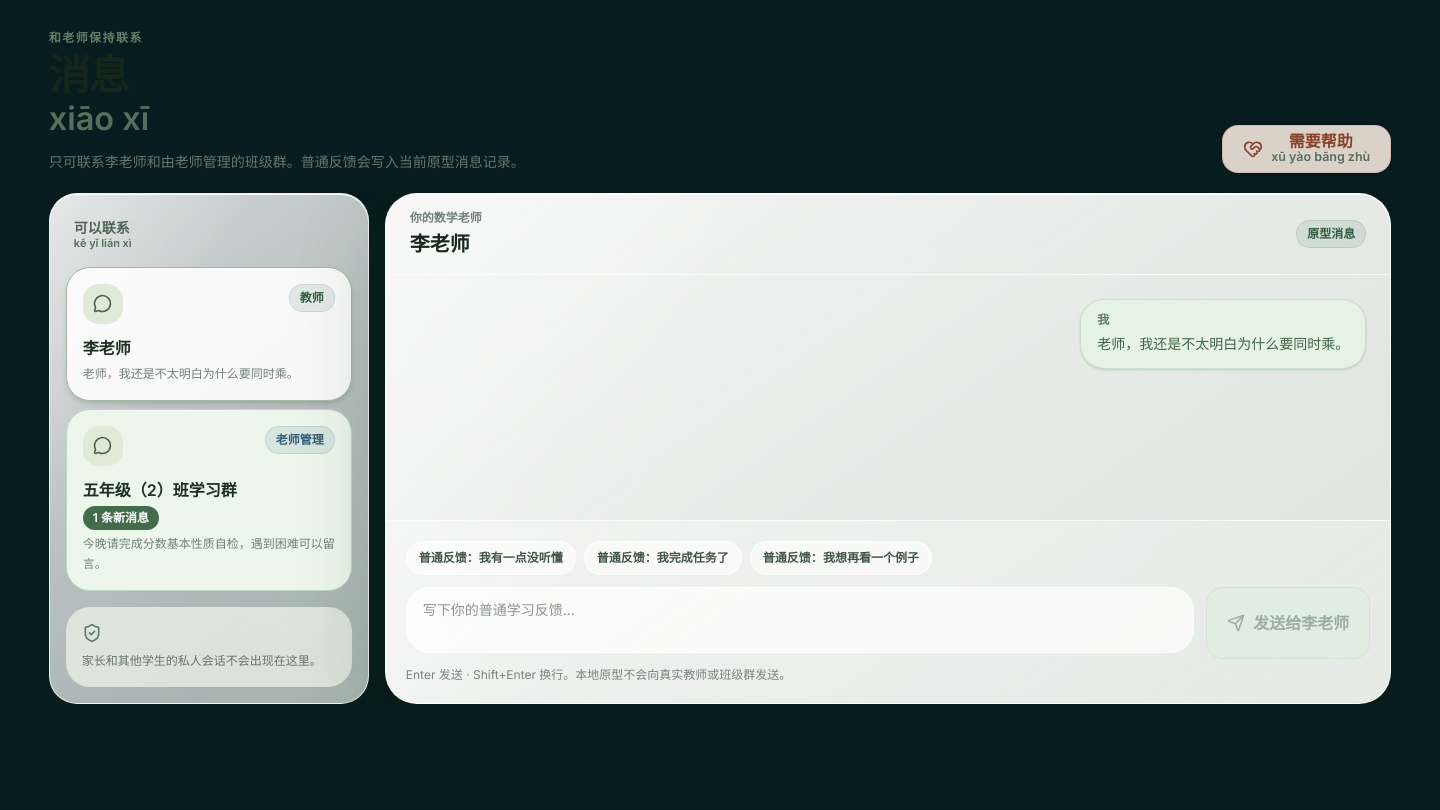
Test: StudentMessagesPage › keeps the separate help entry out of ordinary messages and shows safety guidance
Click the button "需要帮助 xū yào bāng zhù". click: (1307, 149)
box: [1222,125,1391,173]
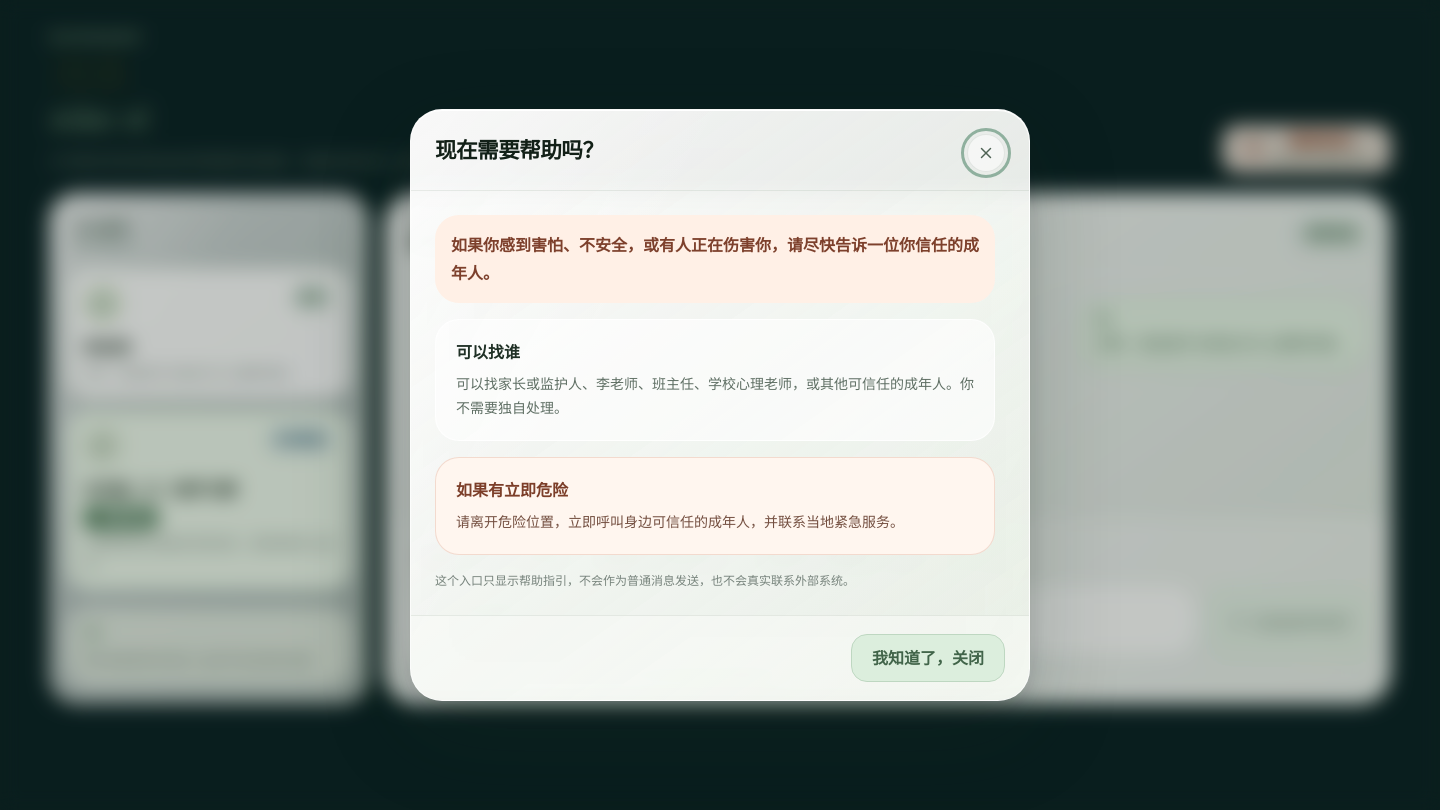
Check: the heading "可以找谁" is shown, box [456,342,520,362]
Check: the text "可以找家长或监护人、李老师、班主任、学校心理老师，或其他可信任的成年人。你不需要独自处理。" is shown, box [456,372,974,420]
Check: the heading "如果有立即危险" is shown, box [456,480,568,500]
Click the button "我知道了，关闭". click: (928, 658)
box: [851,634,1005,682]
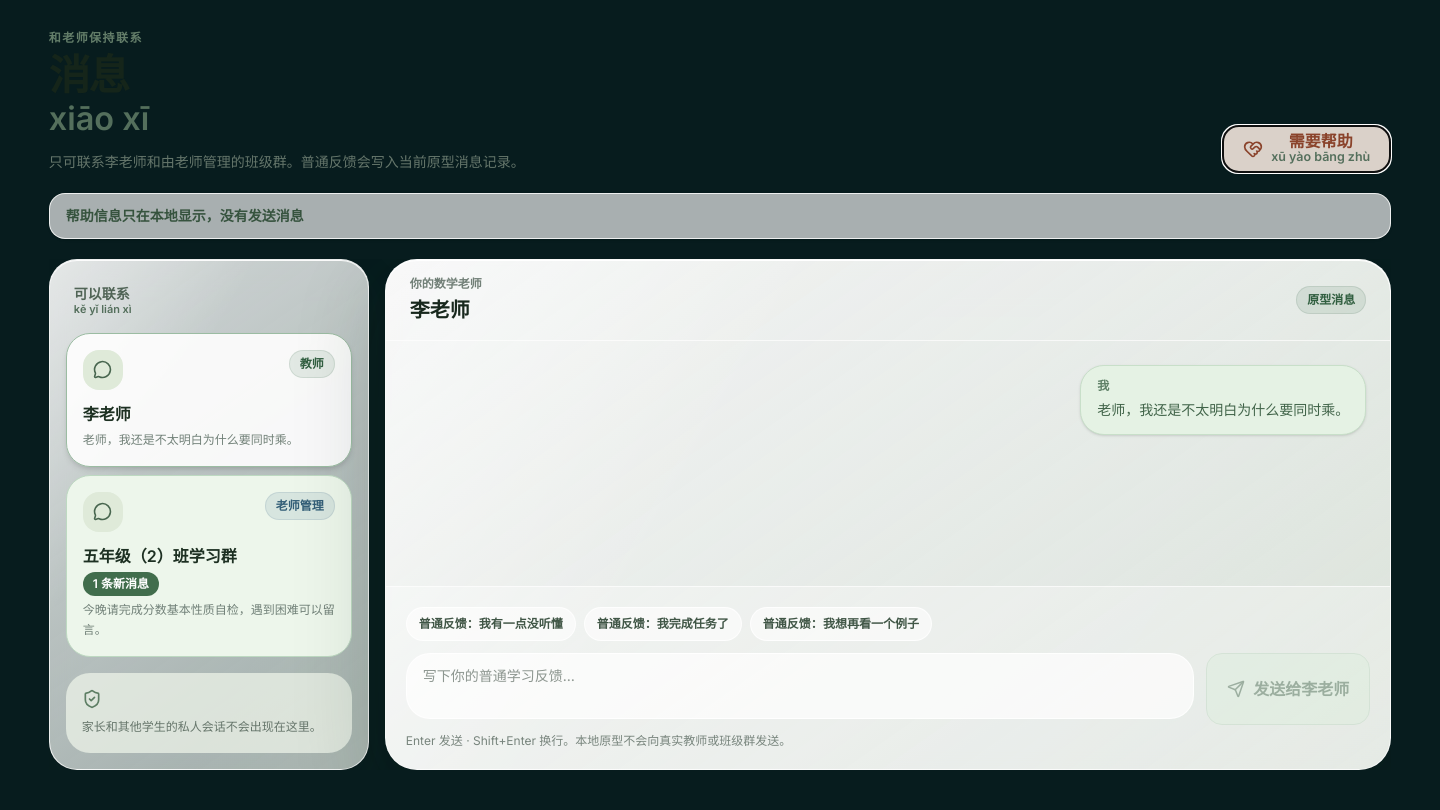
Check: the number of list items is 1, box [1080,365,1366,435]
Check: the message reads "帮助信息只在本地显示，没有发送消息", box [66,207,304,224]
